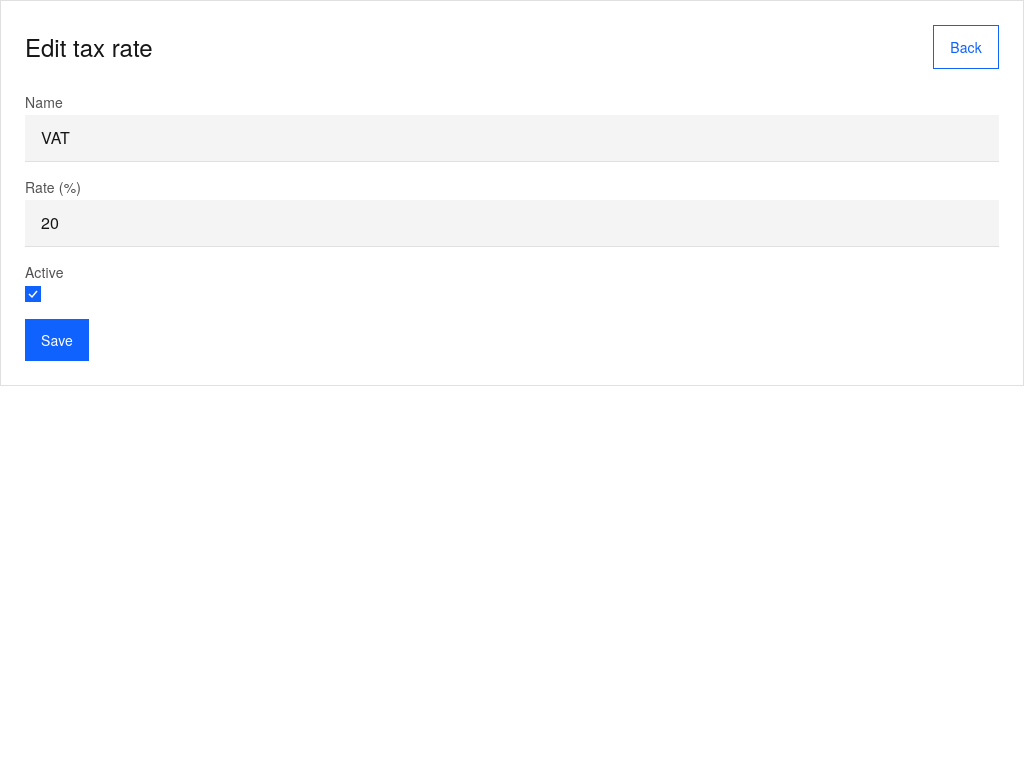
Scenario: SimpleEditor › cancelling the archive ConfirmDialog blocks the save
Click the checkbox named "active" at point(33, 294), box [25,286,41,302]
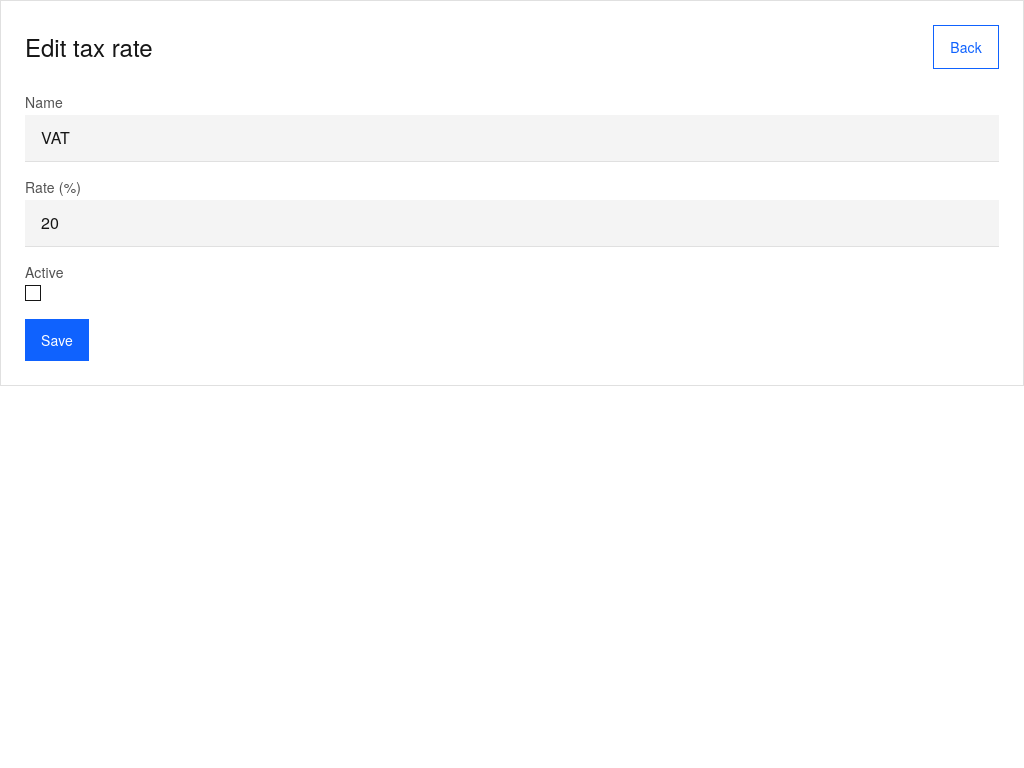
Click the button "Save" at point(57, 340), box [25,319,89,361]
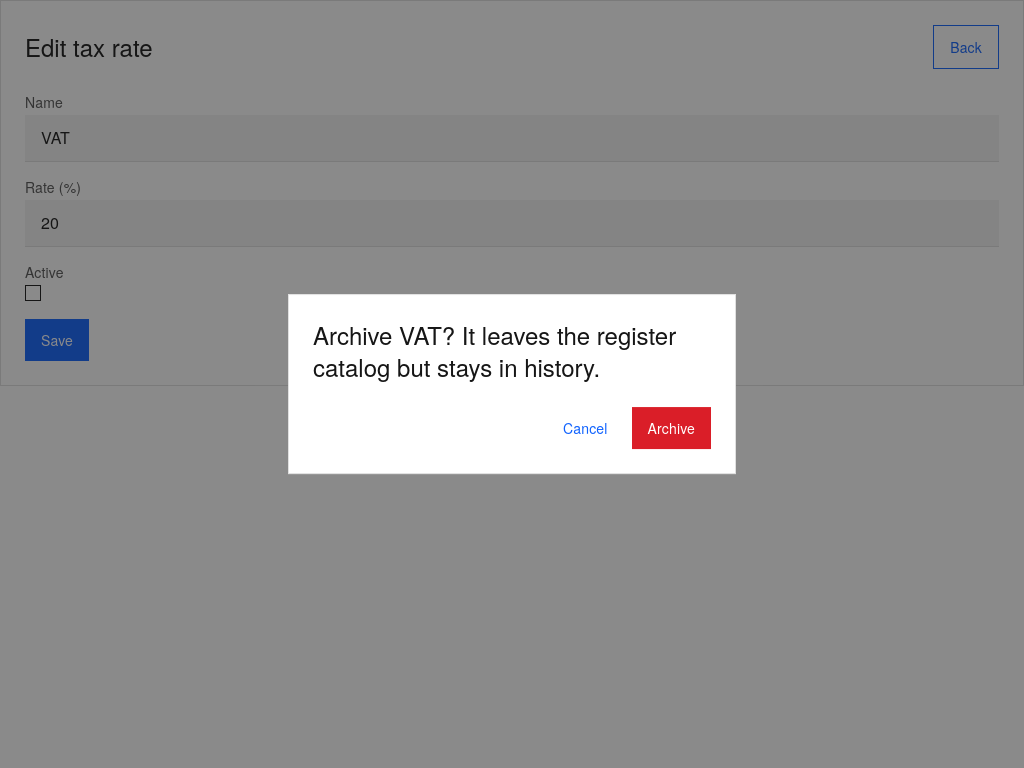
expect the heading "Archive VAT? It leaves the register catalog but stays in history." is shown: met, box [313,319,711,383]
Click the button "Cancel" at point(585, 428), box [547,407,624,449]
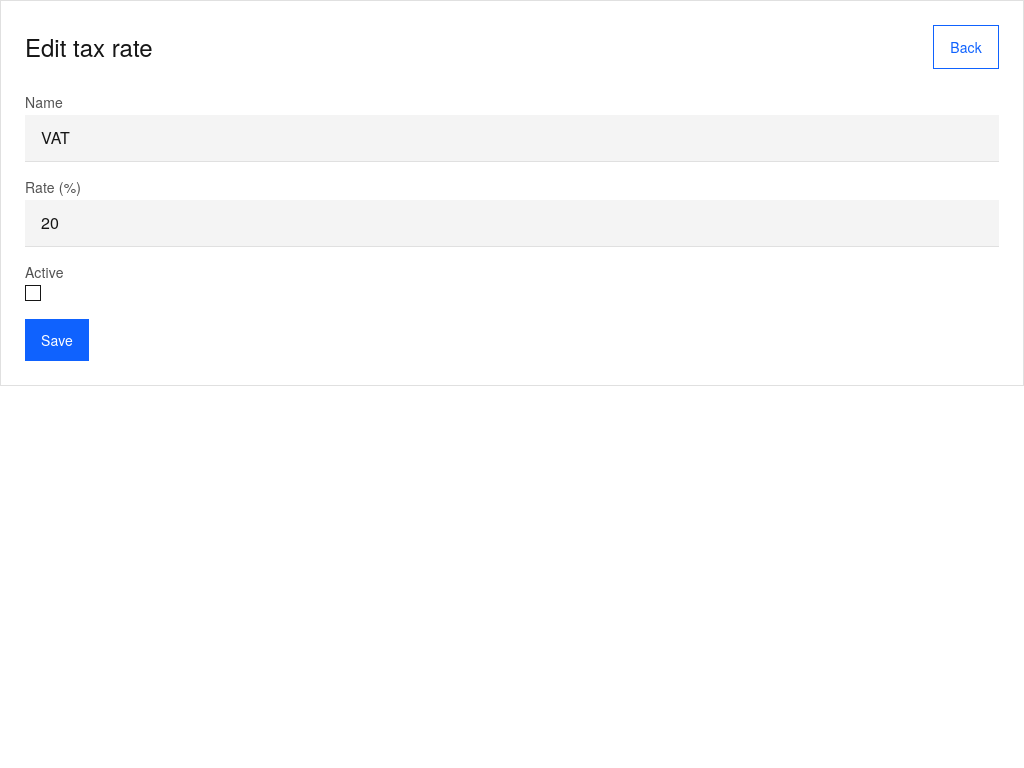
expect the dialog is gone: met
